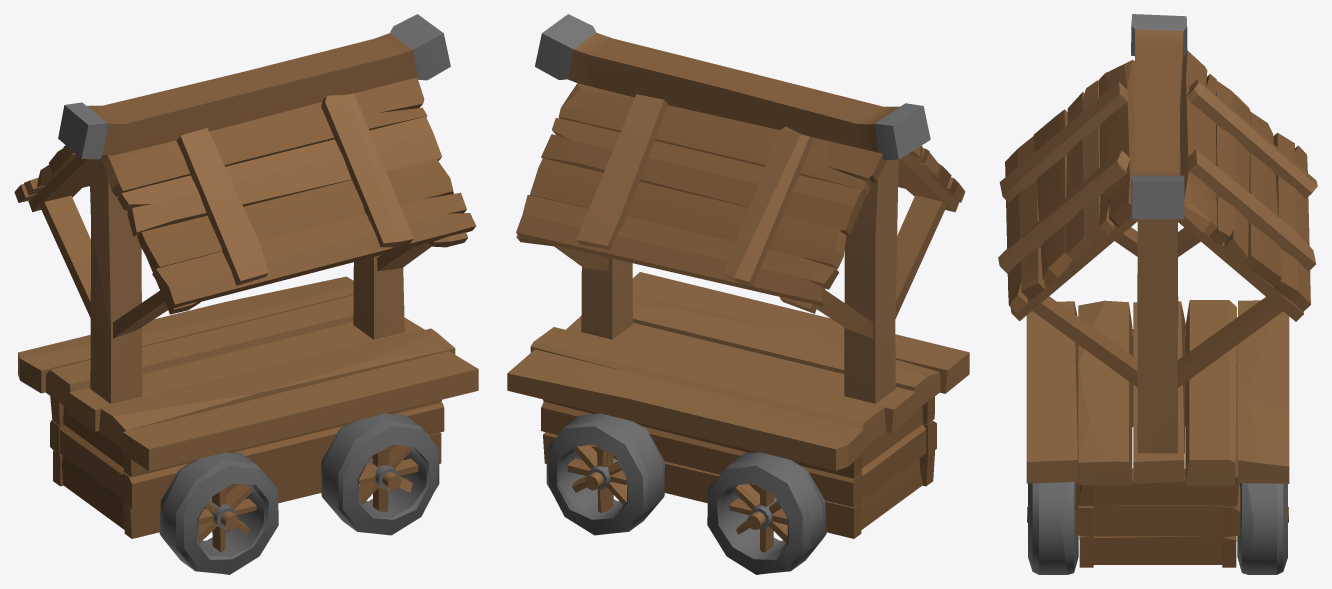
The model's file is Wagon_H.fbx.
3 renders of one model, left to right at view 1: azimuth 30°, elevation 25°; view 2: azimuth 150°, elevation 25°; view 3: azimuth 270°, elevation 25°, orthographic.
Visible parts, largest first — view 1: Wagon_H; view 2: Wagon_H; view 3: Wagon_H.
Part boxes in pixels (box(x1,y1,x2,y2)): Wagon_H: box(14, 14, 478, 574); Wagon_H: box(507, 14, 969, 574); Wagon_H: box(998, 14, 1317, 574).
Size of the model in its own units: 301 by 344 by 227.
